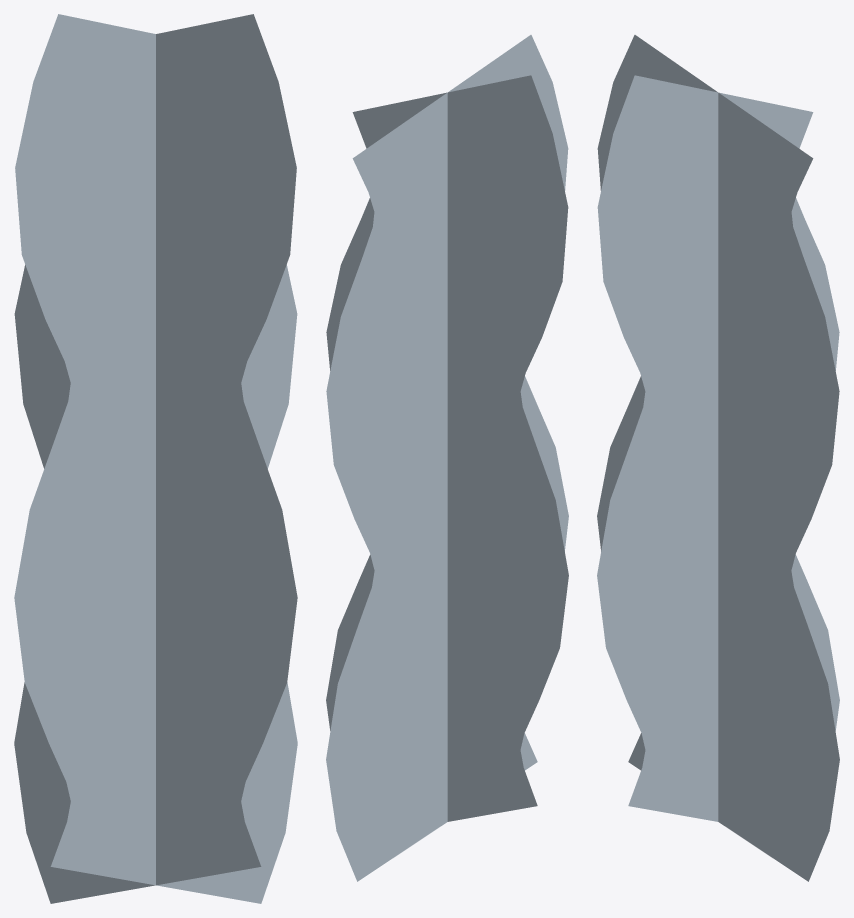
Rendered from 2032_BlazingVisage_VisageFireJet.fbx.
3 renders of one model, left to right at view 1: azimuth 30°, elevation 25°; view 2: azimuth 150°, elevation 25°; view 3: azimuth 270°, elevation 25°, orthographic. The views are drawn at different scales.
Parts seen in each view (by area): view 1: PART_VisageOuterJet0, PART_VisageOuterJet2, PART_VisageInnerJet0, PART_VisageInnerJet2; view 2: PART_VisageOuterJet0, PART_VisageOuterJet1, PART_VisageInnerJet1, PART_VisageInnerJet0; view 3: PART_VisageOuterJet1, PART_VisageOuterJet2, PART_VisageInnerJet2, PART_VisageInnerJet1.
Part boxes in pixels (bbox=[...]): PART_VisageOuterJet0: bbox=[14, 14, 297, 903]; PART_VisageOuterJet2: bbox=[14, 14, 297, 903]; PART_VisageInnerJet0: bbox=[90, 28, 194, 890]; PART_VisageInnerJet2: bbox=[117, 29, 221, 890]; PART_VisageOuterJet0: bbox=[326, 75, 568, 821]; PART_VisageOuterJet1: bbox=[326, 35, 568, 881]; PART_VisageInnerJet1: bbox=[391, 76, 475, 841]; PART_VisageInnerJet0: bbox=[413, 87, 503, 821]; PART_VisageOuterJet1: bbox=[597, 35, 839, 881]; PART_VisageOuterJet2: bbox=[597, 75, 839, 821]; PART_VisageInnerJet2: bbox=[663, 87, 752, 821]; PART_VisageInnerJet1: bbox=[690, 76, 774, 841].
Size of the model in its own units: 34.98 by 111 by 30.29.
